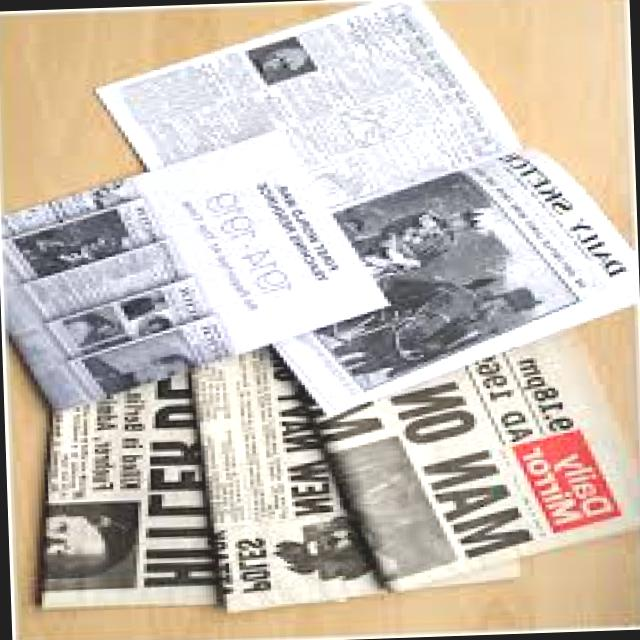paper: (0, 7, 634, 612)
